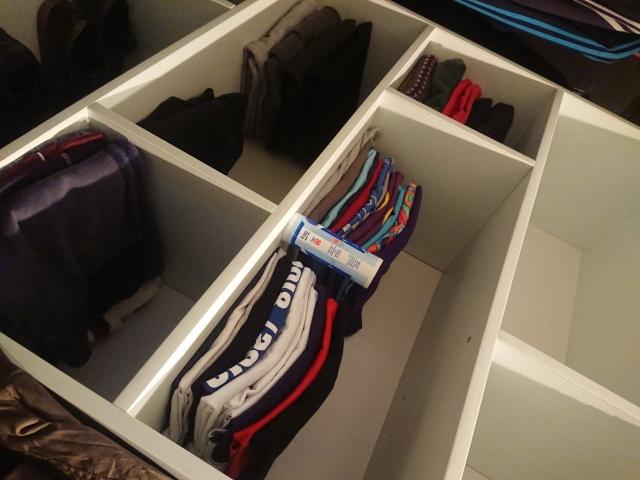Solana Pag Fine Sea Salt 250g: (279, 210, 385, 291)
